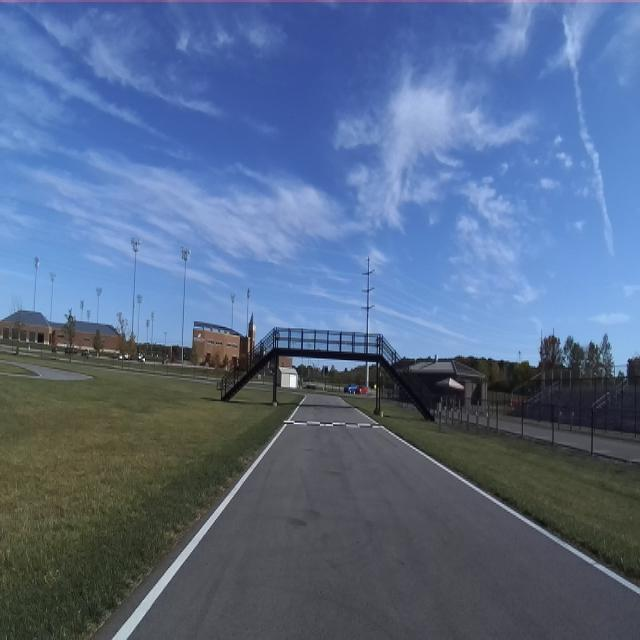white-line: (354, 408, 640, 596), (113, 396, 306, 639)
